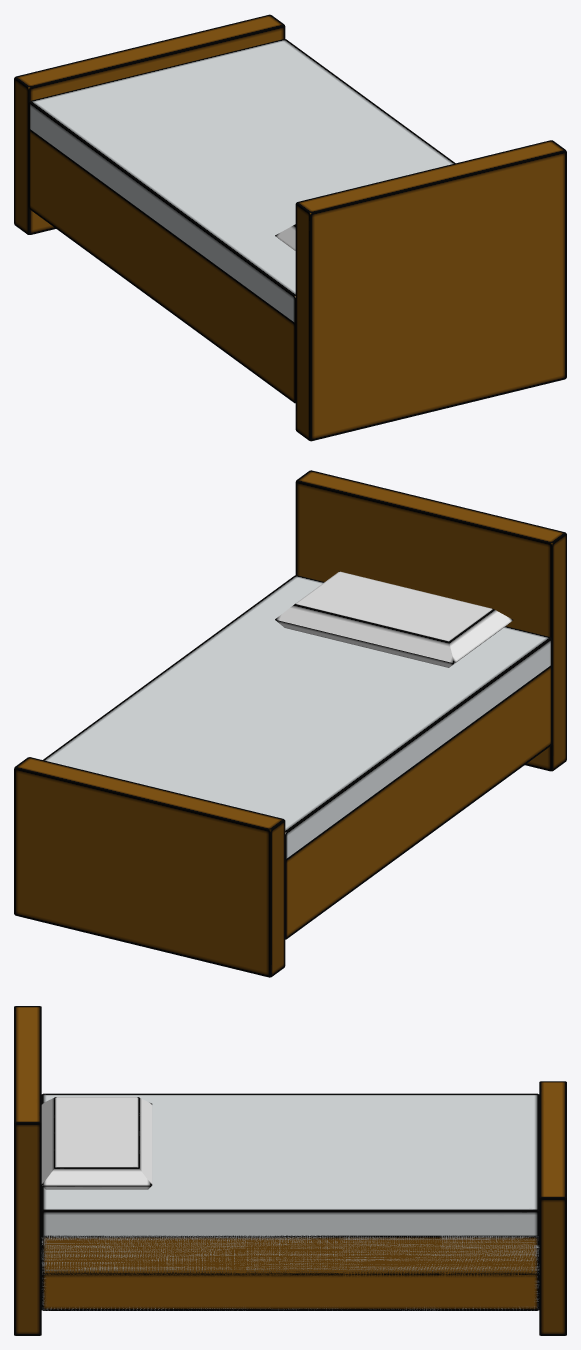
The model's file is bed.fbx.
The picture shows the model from 3 angles, top to bottom: view 1: azimuth 30°, elevation 25°; view 2: azimuth 150°, elevation 25°; view 3: azimuth 270°, elevation 25°; orthographic projection. The views are drawn at different scales.
Visible parts, largest first — view 1: cube_3, cube_7, cube_6, cube_4; view 2: cube_7, cube_4, cube_3, cube_6, cube_1, cube; view 3: cube_7, cube_5, cube_2, cube_1, cube_3, cube_4, cube.
Boxes of the visible parts, bbox=[...] form: cube_3: bbox=[295, 140, 566, 441]; cube_7: bbox=[28, 39, 455, 324]; cube_6: bbox=[28, 129, 295, 403]; cube_4: bbox=[14, 14, 285, 234]; cube_7: bbox=[43, 575, 552, 860]; cube_4: bbox=[14, 757, 285, 977]; cube_3: bbox=[295, 470, 566, 771]; cube_6: bbox=[285, 665, 552, 939]; cube_1: bbox=[275, 571, 512, 663]; cube: bbox=[275, 619, 513, 667]; cube_7: bbox=[41, 1093, 539, 1272]; cube_5: bbox=[41, 1235, 539, 1310]; cube_2: bbox=[41, 1210, 539, 1310]; cube_1: bbox=[41, 1097, 152, 1185]; cube_3: bbox=[14, 1006, 41, 1335]; cube_4: bbox=[539, 1081, 566, 1335]; cube: bbox=[42, 1166, 151, 1189].
Bounding box in the file's own units: 125 × 106 × 250.
1 material, 1 textured.
